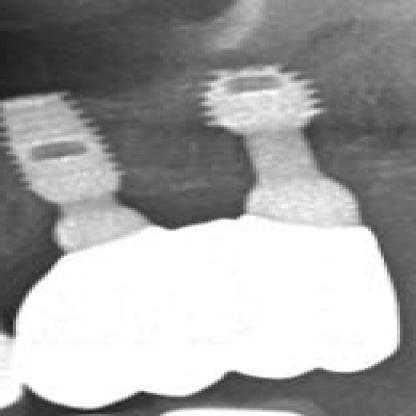Bicon: (0, 90, 132, 190), (196, 62, 329, 138)
